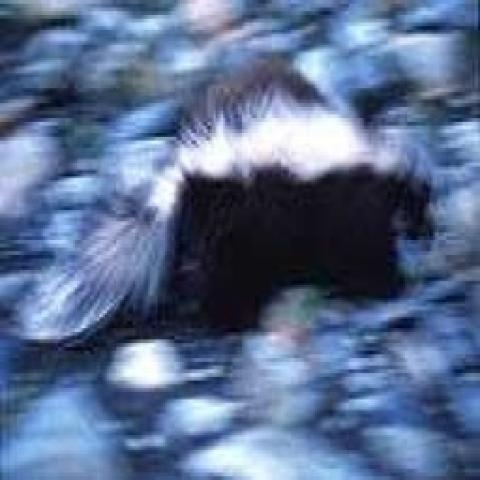small_animal: (12, 64, 442, 344)
